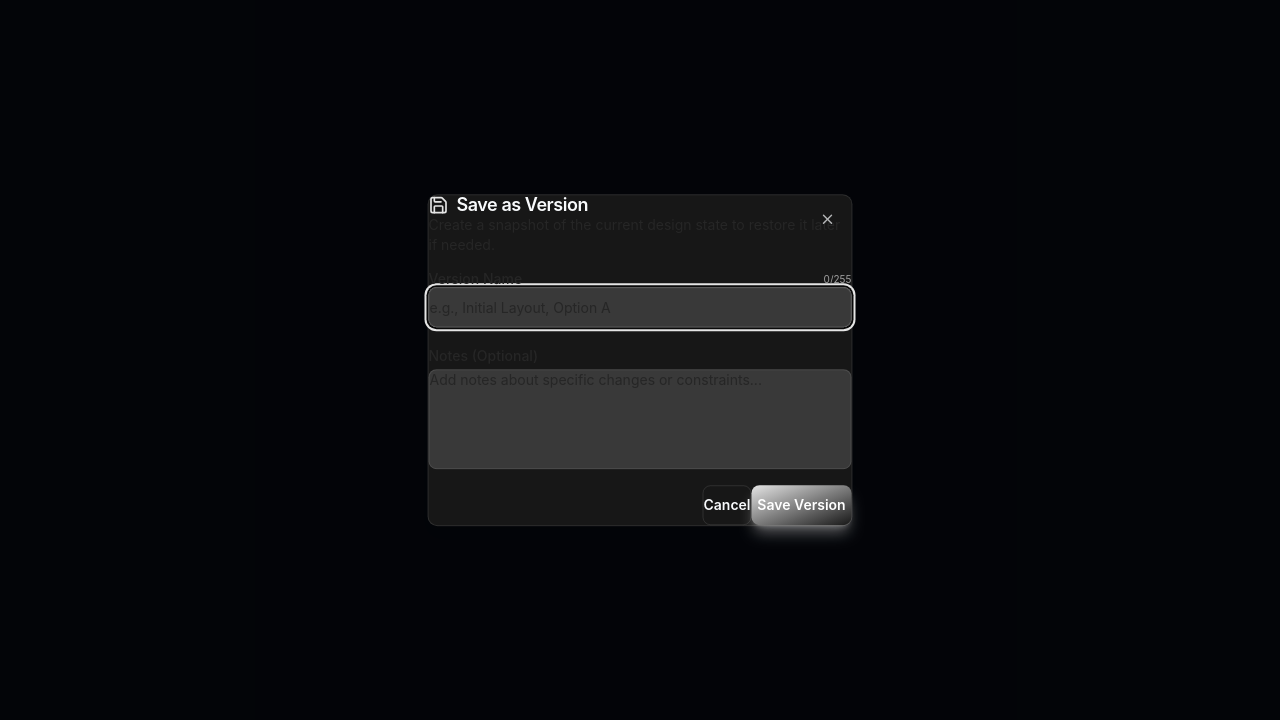
Test: SaveVersionModal › Rendering and Validation › should clear validation error when user corrects input
This screenshot has width=1280, height=720.
Click the button "Save Version" at coordinates (802, 505), box x1=752 y1=485 x2=852 y2=525
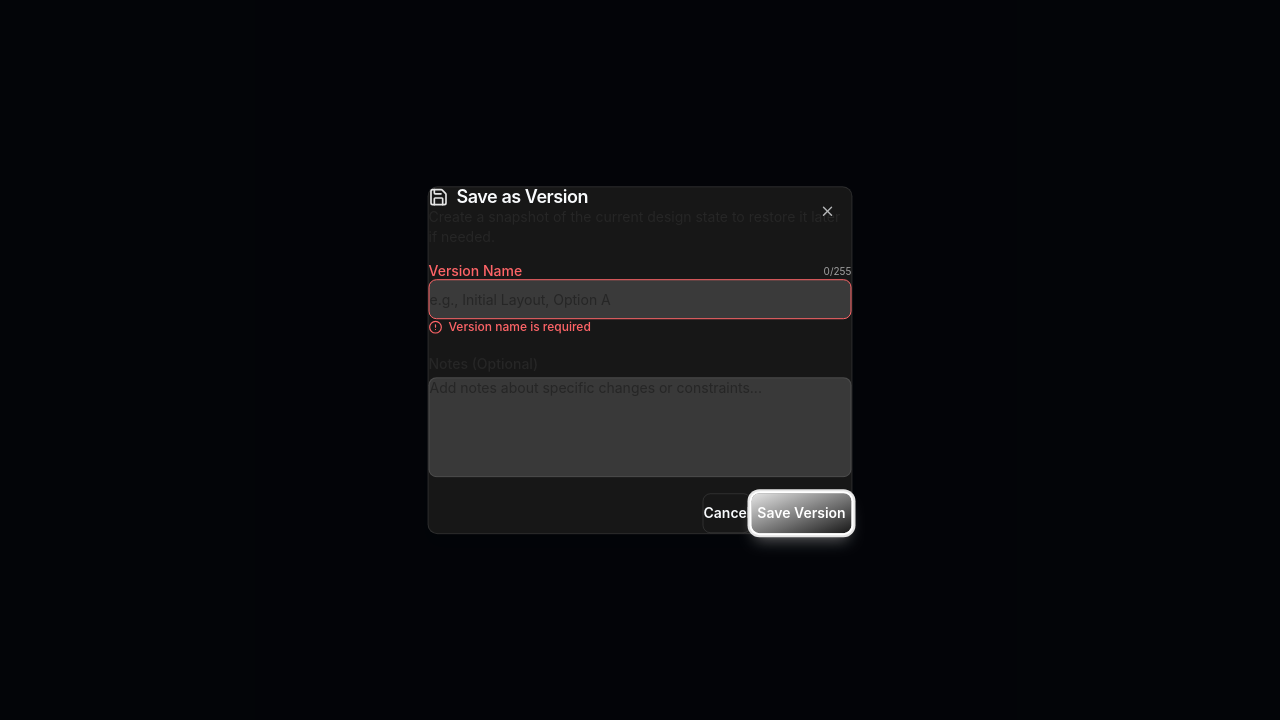
Check: the text "Version name is required" is shown, box x1=428 y1=319 x2=591 y2=334
Type "Valid Name" into the field labelled "Version Name" at coordinates (640, 299), box x1=428 y1=279 x2=852 y2=319
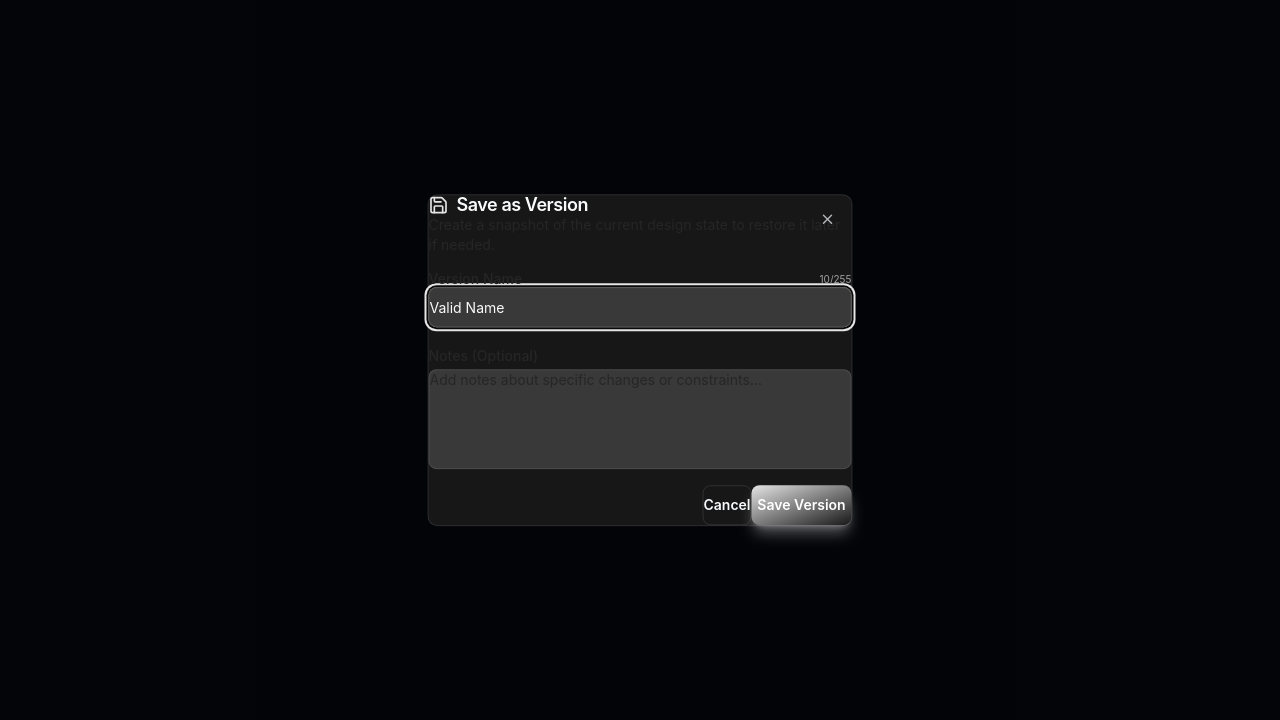
Check: the text "Version name is required" is gone
